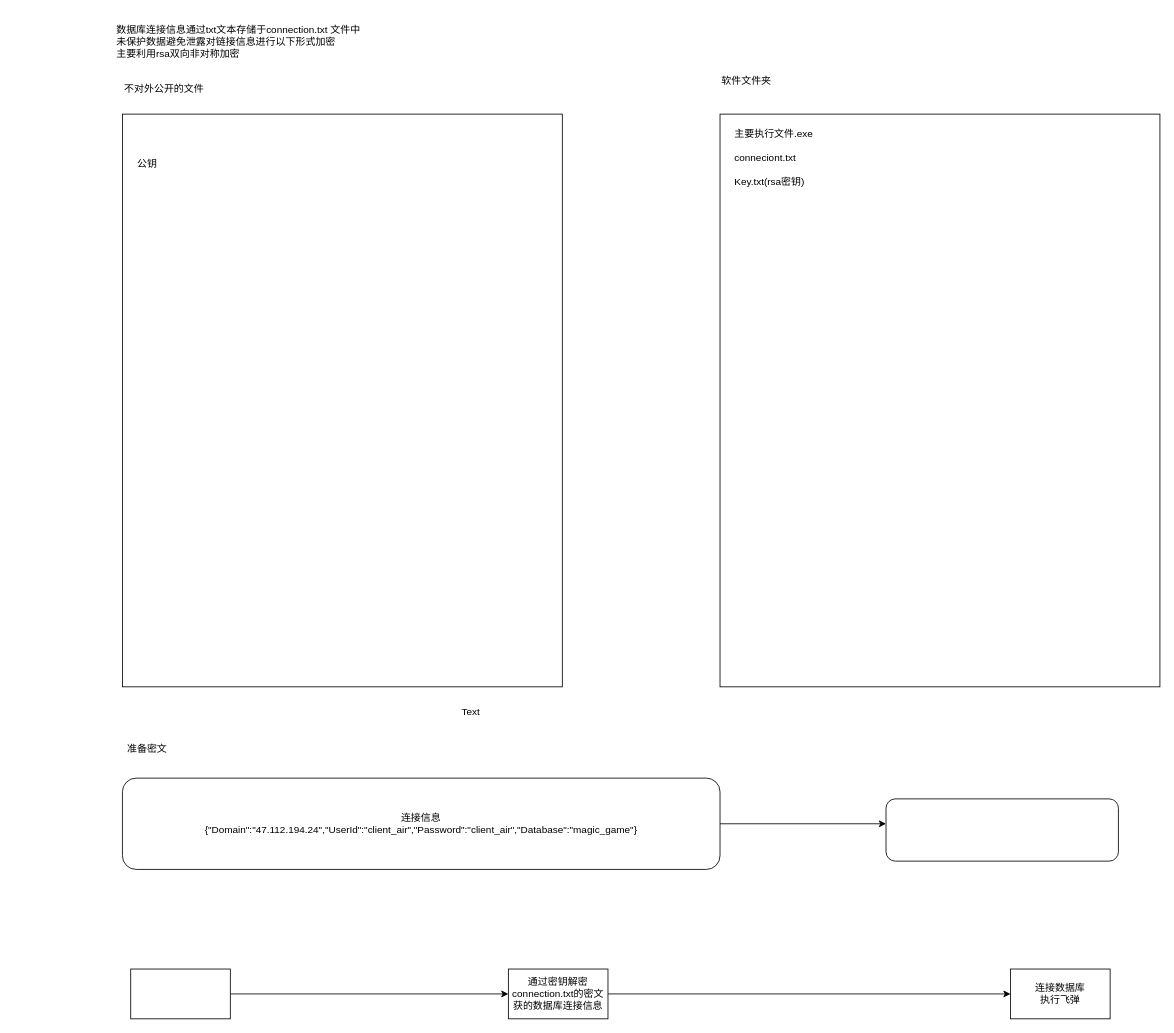
The diagram is 1174 pixels wide and 1033 high, and some of its shapes have lost their labels. The shapes that lost their labels are listed below. From the top down, each one's centre as x and y in pixels, then its label:
At (x=1001, y=829): "利用公钥加密连接信息生成密文放入connection.txt中".
At (x=180, y=993): "软件运行".
